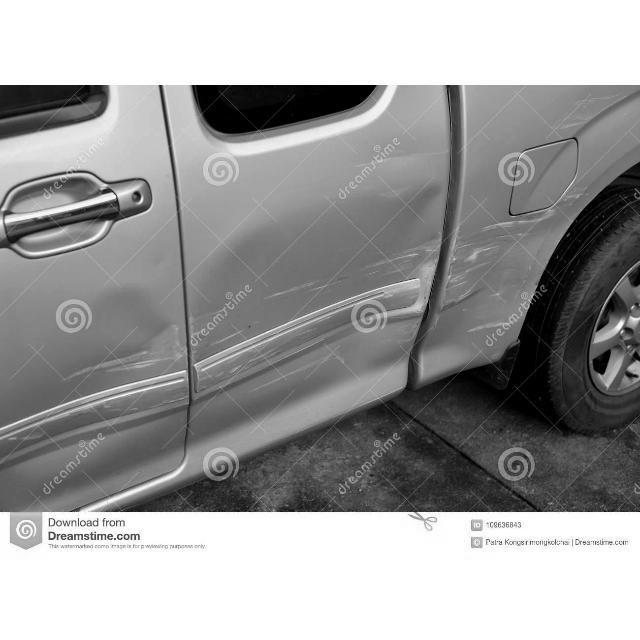doorouter-dent: (187, 134, 429, 465), (0, 115, 182, 475)
quaterpanel-dent: (447, 85, 640, 316)
